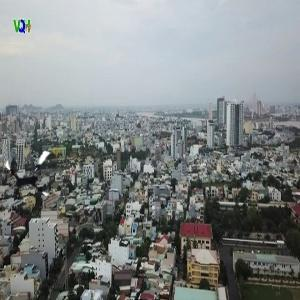drone: (2, 145, 63, 206)
